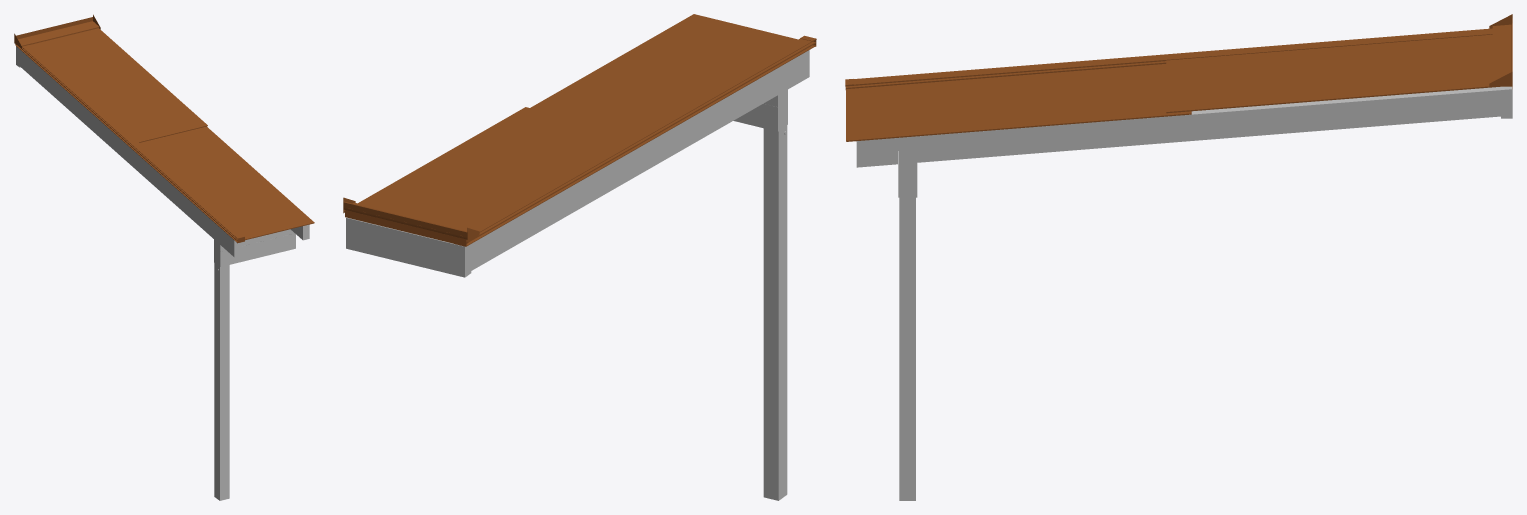
Rendered from terrassendachcol.FBX.
The picture shows the model from 3 angles, left to right: view 1: azimuth 30°, elevation 25°; view 2: azimuth 150°, elevation 25°; view 3: azimuth 270°, elevation 25°; orthographic projection. The views are drawn at different scales.
Visible parts, largest first — view 1: dachglas_repeat, stuetze, sparrenmetall_repeat, dachsparren_repeat, frontbalken_repeat, dachsparren_start, frontbalken_start, wandmetall_repeat, wandmetall_start; view 2: dachglas_repeat, stuetze, dachsparren_repeat, sparrenmetall_repeat, wandbalken_end, dachsparren_start, wandmetall_end, frontbalken_end; view 3: dachglas_repeat, dachsparren_end, sparrenmetall_repeat, stuetze, wandmetall_repeat, frontbalken_end.
Boxes of the visible parts, x1,y1,x2,y2 form: dachglas_repeat: [30, 28, 314, 240]; stuetze: [214, 263, 229, 500]; sparrenmetall_repeat: [15, 45, 244, 243]; dachsparren_repeat: [19, 49, 240, 257]; frontbalken_repeat: [214, 229, 295, 266]; dachsparren_start: [33, 61, 240, 256]; frontbalken_start: [220, 229, 295, 265]; wandmetall_repeat: [16, 17, 97, 46]; wandmetall_start: [14, 18, 97, 48]; dachglas_repeat: [344, 14, 797, 229]; stuetze: [763, 125, 787, 500]; dachsparren_repeat: [471, 75, 808, 270]; sparrenmetall_repeat: [455, 35, 816, 246]; wandbalken_end: [346, 218, 464, 277]; dachsparren_start: [487, 50, 809, 234]; wandmetall_end: [343, 197, 465, 246]; frontbalken_end: [733, 95, 777, 131]; dachglas_repeat: [846, 34, 1499, 141]; dachsparren_end: [856, 86, 1500, 167]; sparrenmetall_repeat: [845, 28, 1492, 89]; stuetze: [899, 197, 915, 500]; wandmetall_repeat: [1492, 19, 1512, 81]; frontbalken_end: [898, 151, 917, 197].
Size of the model in its own units: 8.22 by 31.86 by 40.24.
